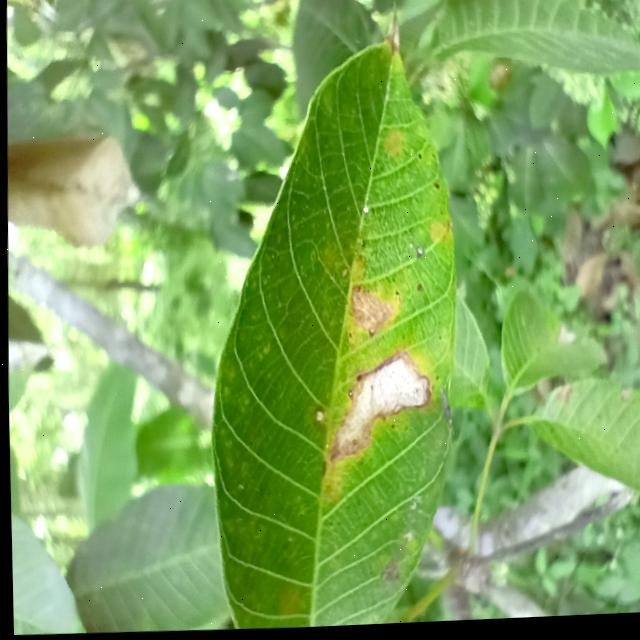Colletotrichum: (413, 287, 419, 295), (431, 186, 437, 193), (415, 156, 420, 163), (345, 394, 350, 401), (346, 335, 349, 341), (392, 294, 396, 298)
Leaf-Blight: (330, 360, 426, 459), (345, 289, 389, 334), (384, 4, 401, 55)
